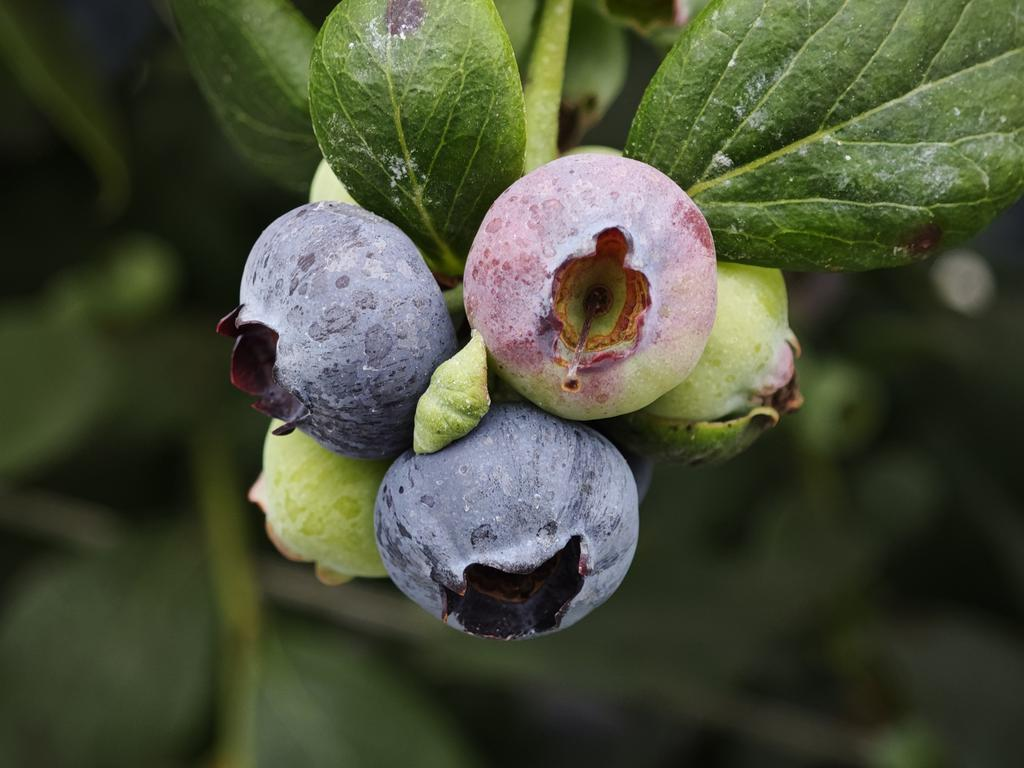RipeBlueBerry: (370, 399, 643, 648), (225, 195, 460, 455)
Semi-RipeBlueBerry: (463, 147, 721, 425)
